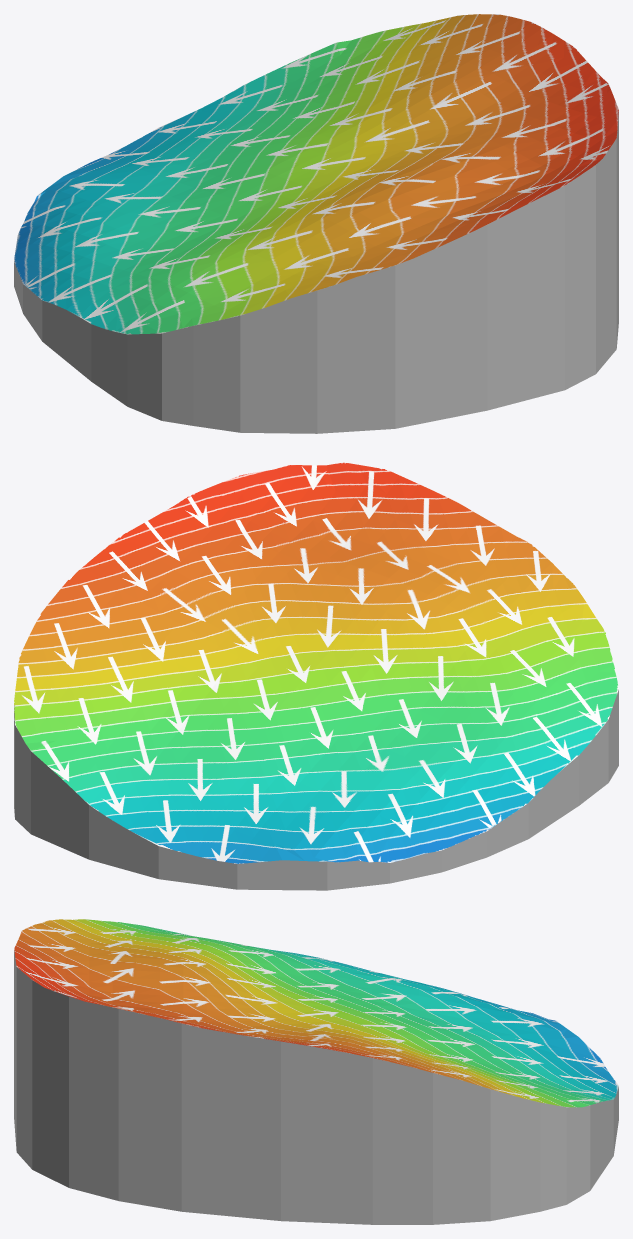
3 views of the same model, one above another, from view 1: azimuth 30°, elevation 25°; view 2: azimuth 150°, elevation 25°; view 3: azimuth 270°, elevation 25° (orthographic). The views are drawn at different scales.
Bounding box in the file's own units: 4.02 × 1.6 × 4.55.
2 materials, 1 textured.
